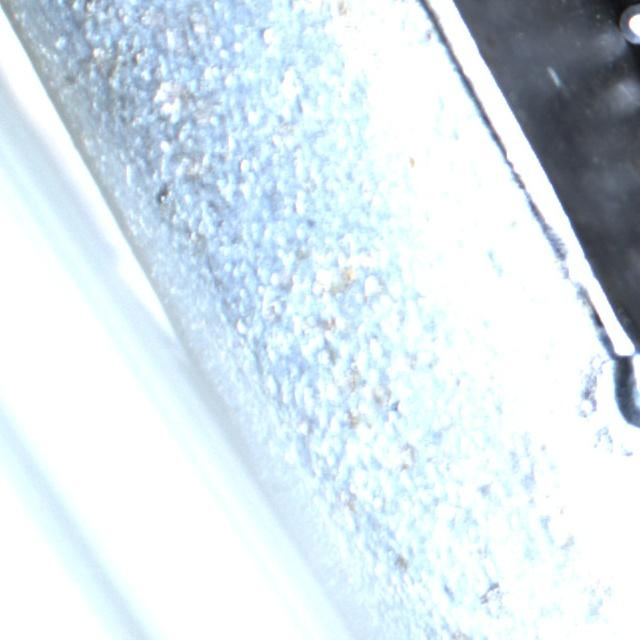tool: (618, 1, 640, 45)
